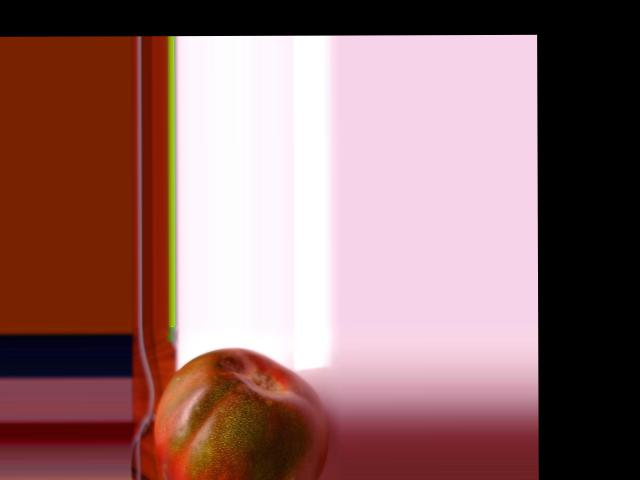tomato: (153, 348, 327, 480)
